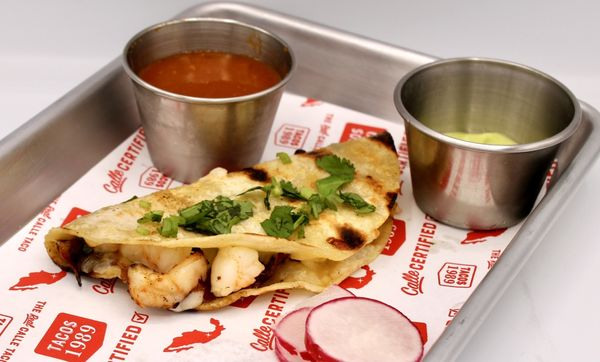pizza: (392, 57, 594, 232), (122, 17, 296, 184)
soup: (36, 136, 404, 303)
